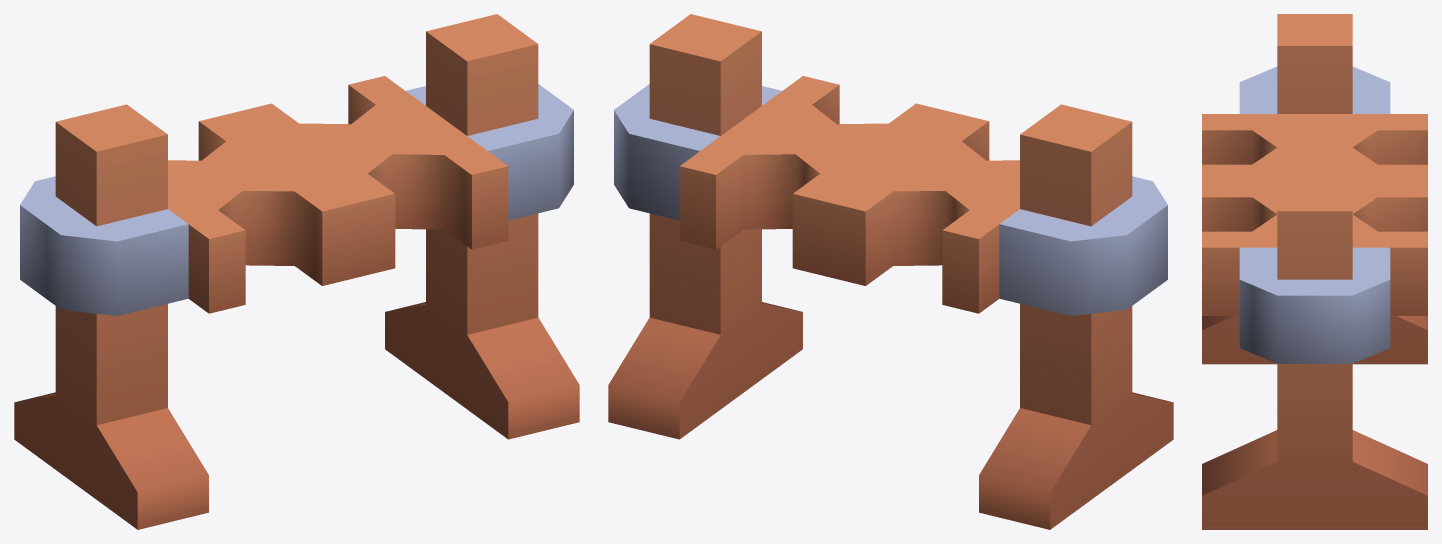
Rendered from weapon_rack.glb.
3 views of the same model, side by side, from view 1: azimuth 30°, elevation 25°; view 2: azimuth 150°, elevation 25°; view 3: azimuth 270°, elevation 25° (orthographic). The views are drawn at different scales.
Visible parts, largest first — view 1: weapon-rack; view 2: weapon-rack; view 3: weapon-rack.
Part boxes in pixels (box(x1,y1,x2,y2)): weapon-rack: box(14, 14, 579, 529); weapon-rack: box(608, 14, 1173, 529); weapon-rack: box(1202, 14, 1427, 529).
Size of the model in its own units: 0.72 by 0.4667 by 0.3.
Materials: 1 (1 with a texture image).
